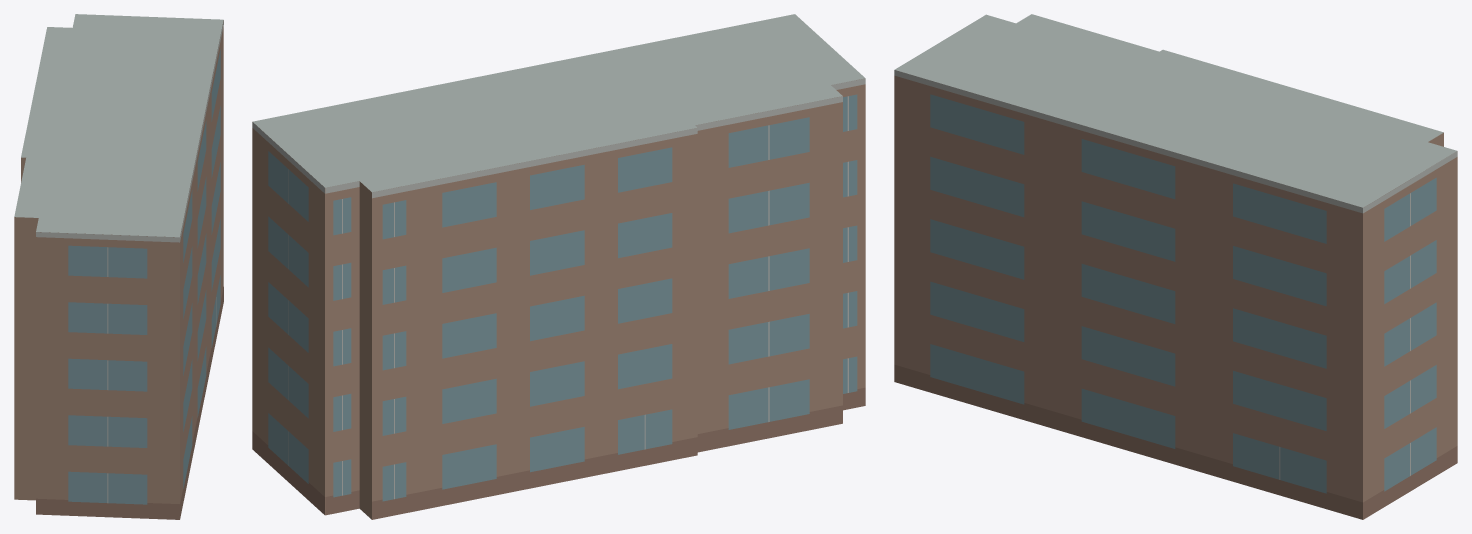
Rendered from survey-upis-32723835.glb.
3 views of the same model, side by side, from view 1: azimuth 30°, elevation 25°; view 2: azimuth 150°, elevation 25°; view 3: azimuth 270°, elevation 25° (orthographic). The views are drawn at different scales.
Visible parts, largest first — view 1: survey-upis-32723835.tmp; view 2: survey-upis-32723835.tmp; view 3: survey-upis-32723835.tmp.
Boxes of the visible parts, x1=… form: survey-upis-32723835.tmp: x1=14, y1=14, x2=223, y2=519; survey-upis-32723835.tmp: x1=252, y1=14, x2=865, y2=519; survey-upis-32723835.tmp: x1=894, y1=14, x2=1457, y2=519.
Size of the model in its own units: 17.71 by 13.3 by 21.76.
